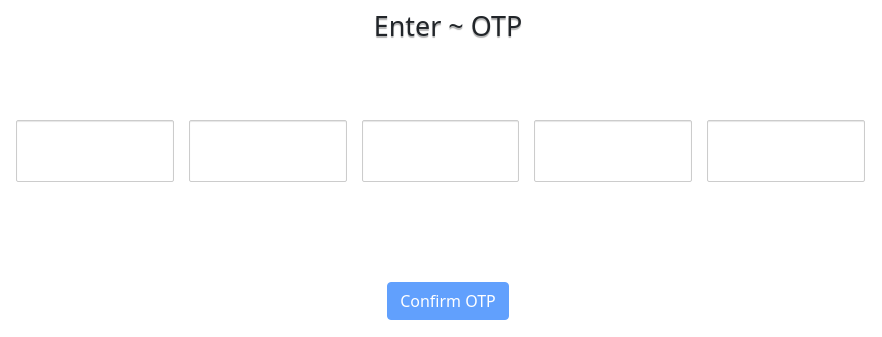
Test: check if button enabled
In the field with test id "digit-1": point(95, 151) [16,120,174,182], type "1"
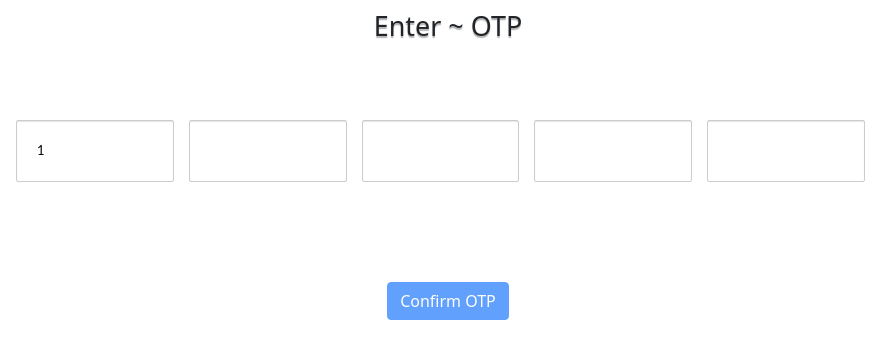
In the field with test id "digit-2": point(268, 151) [189,120,347,182], type "2"
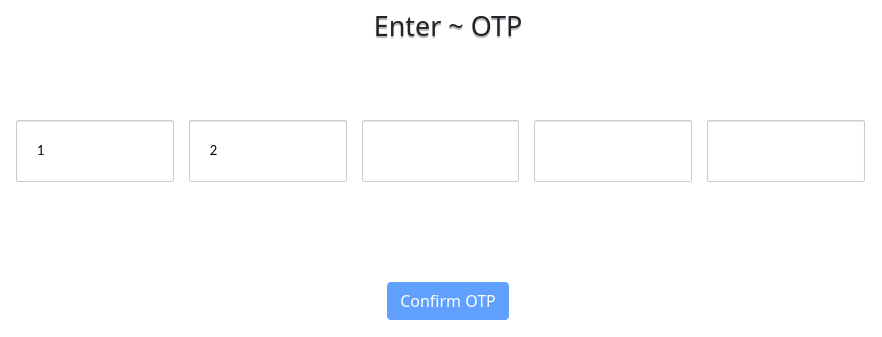
In the field with test id "digit-3": point(440, 151) [362,120,519,182], type "3"
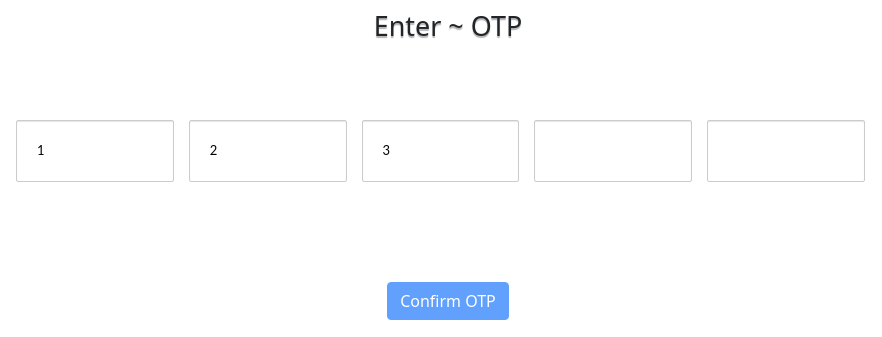
In the field with test id "digit-4": point(613, 151) [534,120,692,182], type "4"
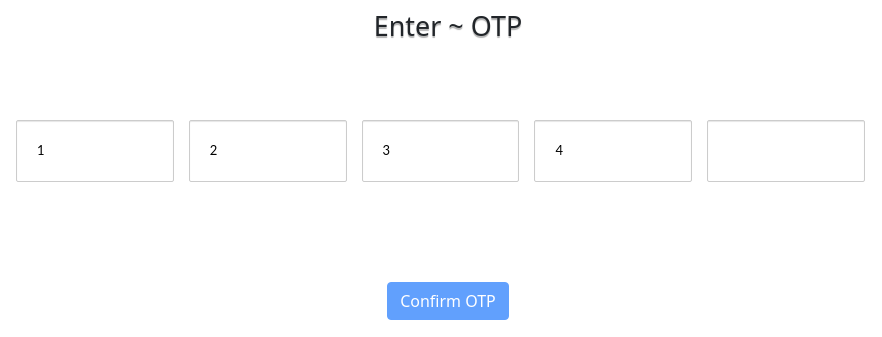
In the field with test id "digit-5": point(786, 151) [707,120,865,182], type "5"
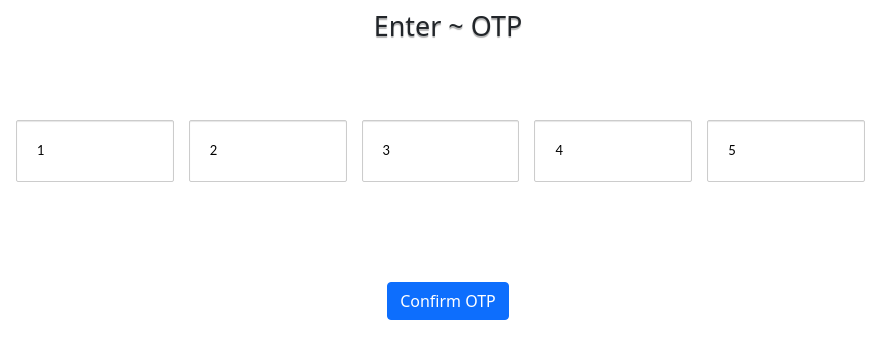
Expected: the button with test id "submit-btn" is enabled, [387,282,509,320]
